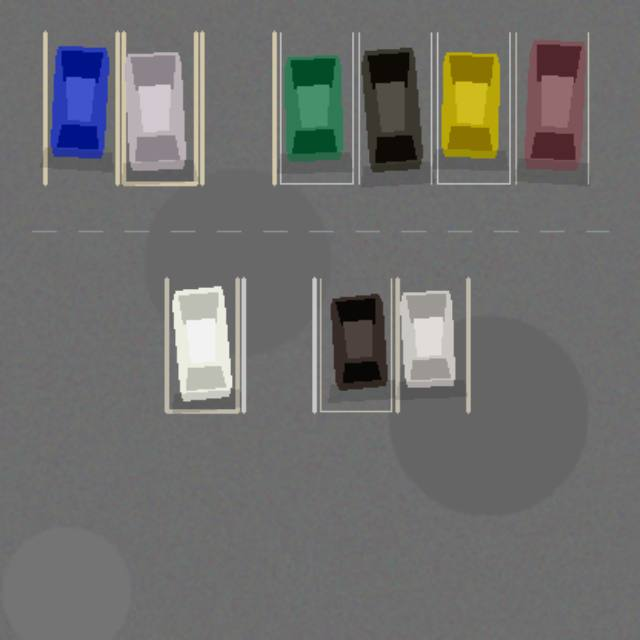space-empty: (202, 32, 274, 183), (243, 278, 314, 411)
space-occupied: (358, 32, 431, 183), (515, 32, 588, 183), (45, 32, 117, 183), (123, 32, 195, 183), (280, 32, 352, 183), (437, 32, 509, 183), (166, 278, 237, 411), (320, 278, 391, 411), (397, 278, 468, 411)
